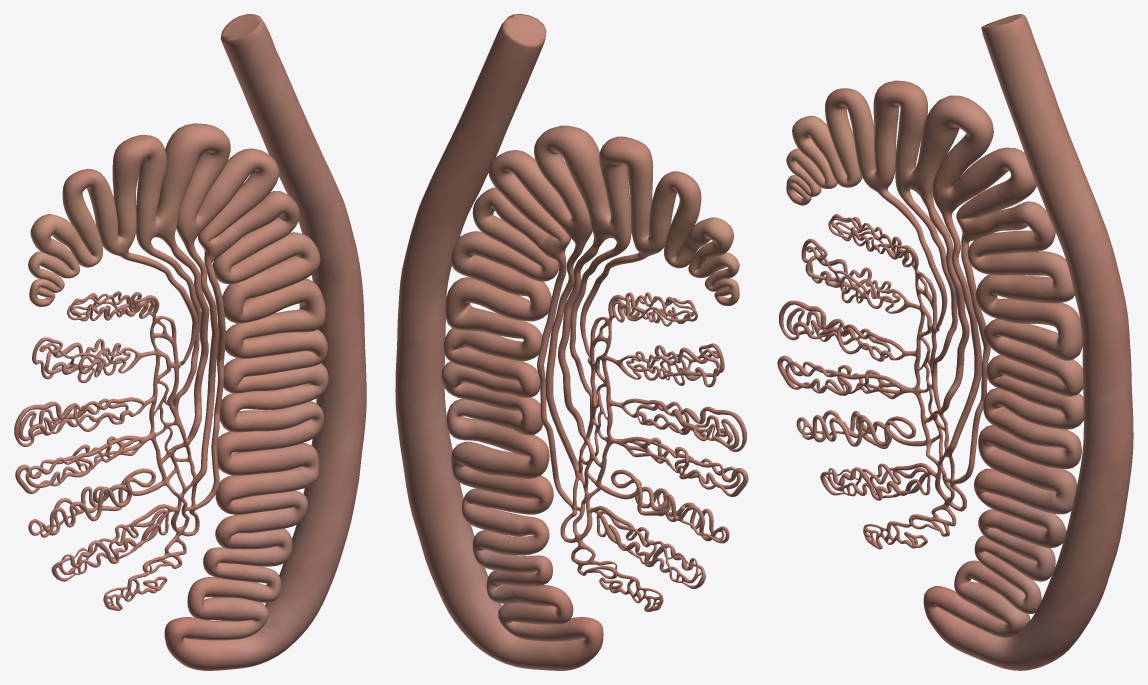
3 renders of one model, left to right at view 1: azimuth 30°, elevation 25°; view 2: azimuth 150°, elevation 25°; view 3: azimuth 330°, elevation 25°, orthographic.
Visible parts, largest first — view 1: LOD 1_6378092431652634060_a1e5460f9667e624384844bb77a670e0; view 2: LOD 1_6378092431652634060_a1e5460f9667e624384844bb77a670e0; view 3: LOD 1_6378092431652634060_a1e5460f9667e624384844bb77a670e0.
Part boxes in pixels (box(x1,y1,x2,y2)): LOD 1_6378092431652634060_a1e5460f9667e624384844bb77a670e0: box(14, 14, 366, 670); LOD 1_6378092431652634060_a1e5460f9667e624384844bb77a670e0: box(395, 14, 748, 670); LOD 1_6378092431652634060_a1e5460f9667e624384844bb77a670e0: box(777, 14, 1133, 670).
Bounding box in the file's own units: 6.96 × 12.33 × 0.9784.
